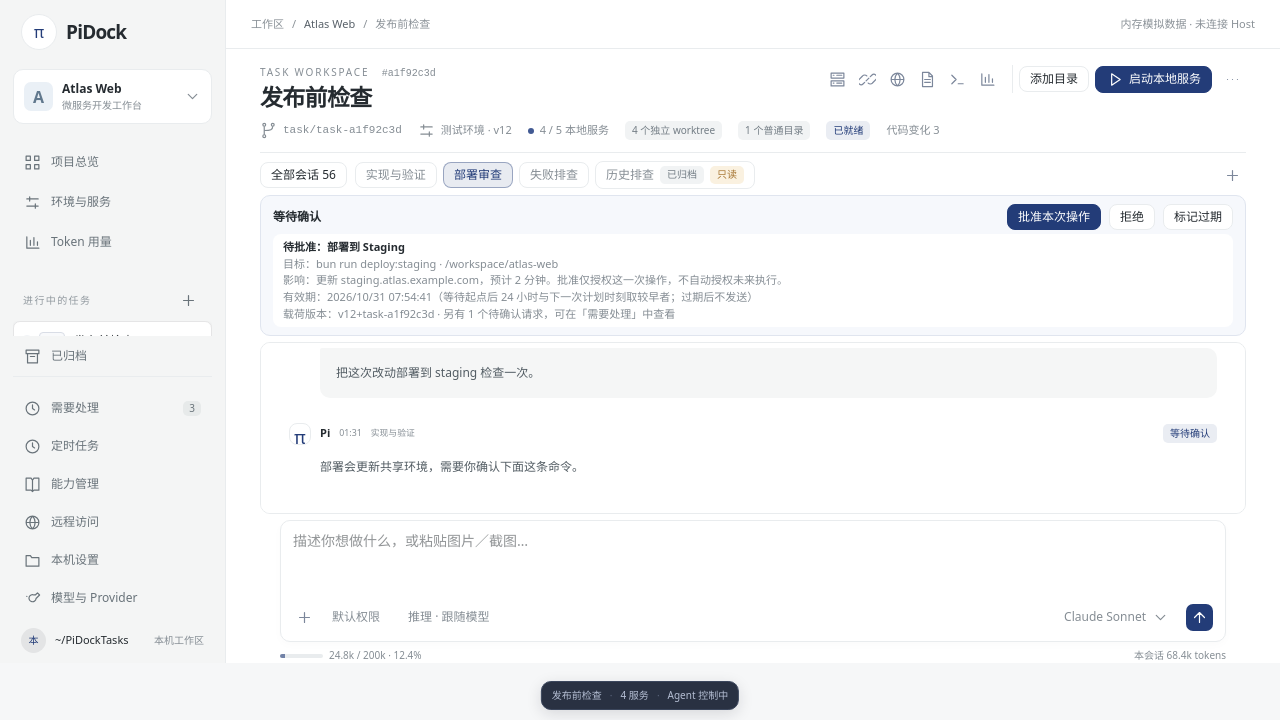
Test case: execution card › keeps the outcome line on the request the state came from
(page scrolled)
Check: the heading "发布前检查" is shown, box x1=260 y1=81 x2=372 y2=113
Click the button "拒绝". click: (1132, 217)
box: x1=1109 y1=204 x2=1155 y2=230
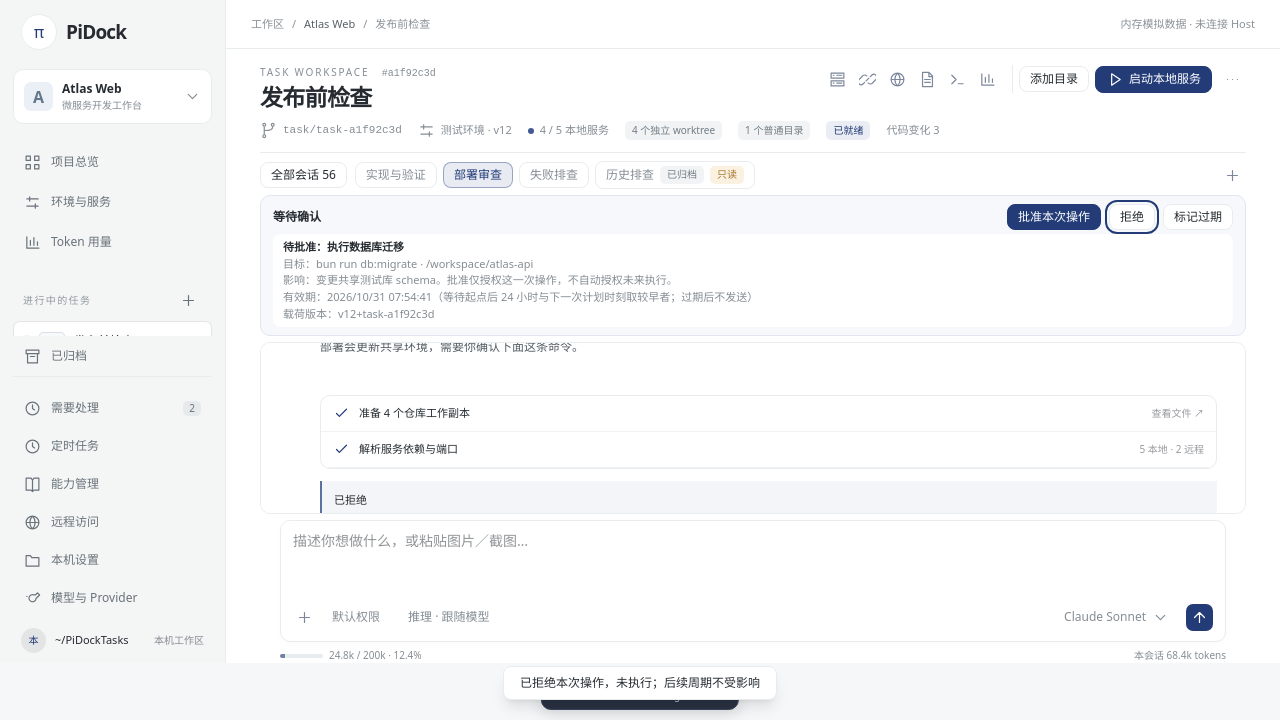
Click the button "批准本次操作". click: (1054, 217)
box: x1=1007 y1=204 x2=1101 y2=230
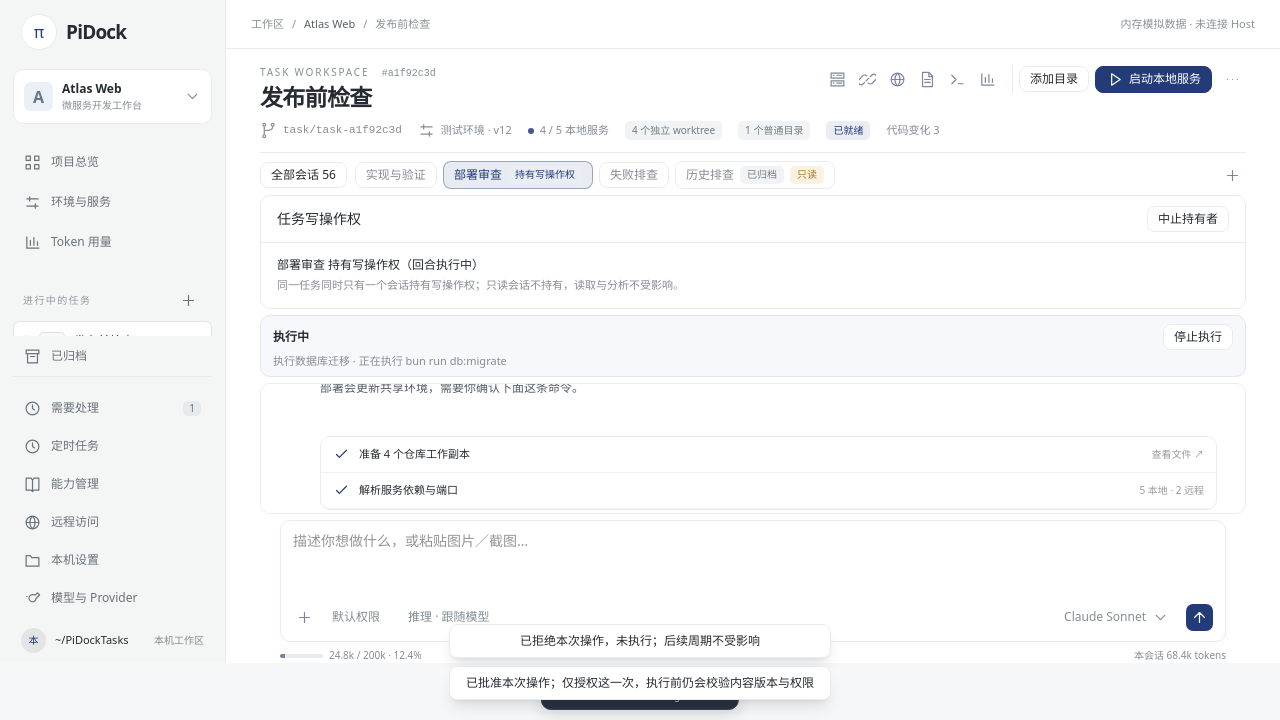
Check: the element with test id "execution-approval-outcome" does not show "部署到 Staging", box x1=273 y1=352 x2=507 y2=368
Check: the element with test id "execution-approval-outcome" reads "执行数据库迁移 · 正在执行 bun run db:migrate", box x1=273 y1=352 x2=507 y2=368
